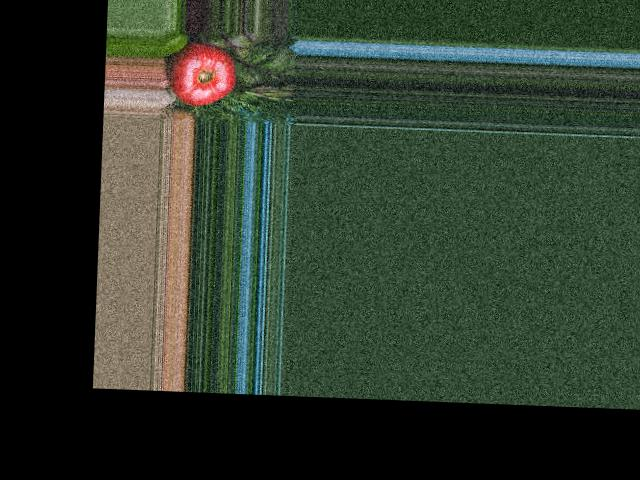tomato: (165, 39, 236, 107)
